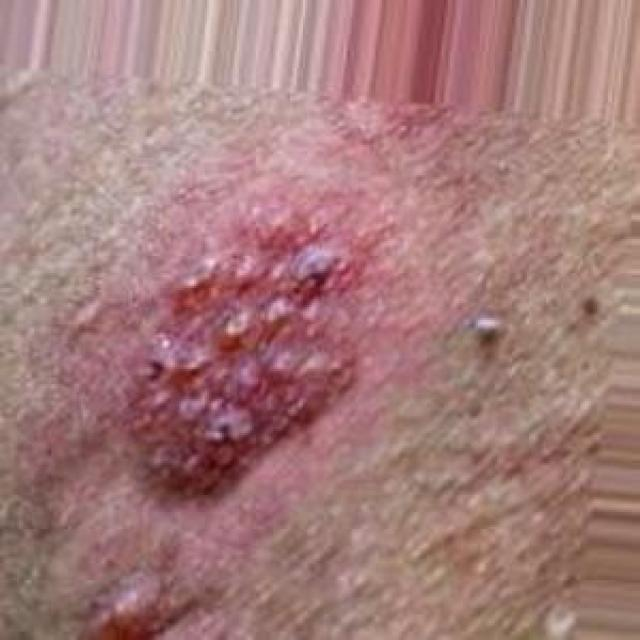Shingles: (132, 224, 355, 491)
